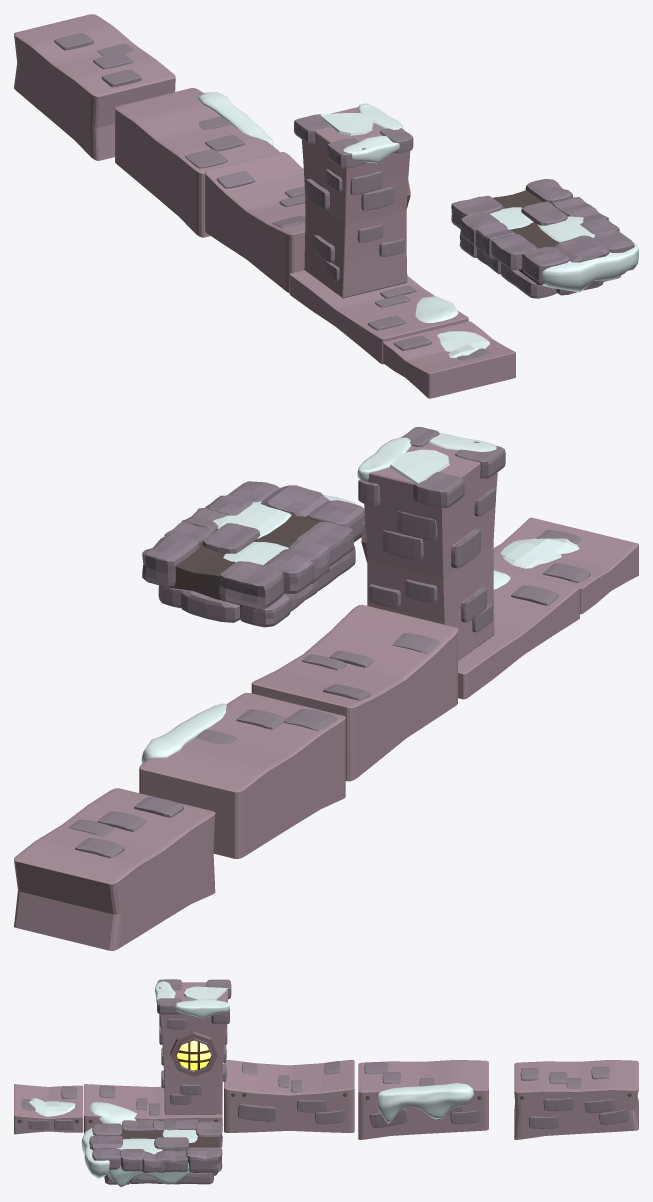
Rendered from Platforms01.fbx.
3 views of the same model, one above another, from view 1: azimuth 30°, elevation 25°; view 2: azimuth 150°, elevation 25°; view 3: azimuth 270°, elevation 25° (orthographic). The views are drawn at different scales.
Visible parts, largest first — view 1: Cube.040, Ground01, Cube.043, Cube.042, Cube.041, Cube.039, rocks.052; view 2: Cube.040, Cube.043, Cube.042, Ground01, Cube.041, Cube.039, rocks.052; view 3: Cube.042, Cube.043, Cube.041, Cube.040, Ground01, Cube.039, rocks.052.
Part boxes in pixels (left/top/right/bottom): Cube.040: left=294, top=103, right=413, bottom=298; Ground01: left=451, top=179, right=638, bottom=298; Cube.043: left=14, top=14, right=175, bottom=160; Cube.042: left=115, top=88, right=279, bottom=237; Cube.041: left=205, top=152, right=305, bottom=292; Cube.039: left=289, top=270, right=468, bottom=364; rocks.052: left=383, top=321, right=515, bottom=398; Cube.040: left=357, top=427, right=505, bottom=660; Cube.043: left=14, top=788, right=215, bottom=950; Cube.042: left=139, top=693, right=345, bottom=858; Ground01: left=142, top=481, right=364, bottom=627; Cube.041: left=251, top=604, right=457, bottom=781; Cube.039: left=458, top=565, right=579, bottom=699; rocks.052: left=493, top=517, right=638, bottom=614; Cube.042: left=358, top=1060, right=488, bottom=1139; Cube.043: left=514, top=1060, right=638, bottom=1139; Cube.041: left=224, top=1059, right=354, bottom=1132; Cube.040: left=155, top=979, right=231, bottom=1114; Ground01: left=81, top=1119, right=222, bottom=1187; Cube.039: left=84, top=1084, right=222, bottom=1133; rocks.052: left=14, top=1084, right=83, bottom=1134.
Bounding box in the file's own units: 1241 × 802 × 3367.
